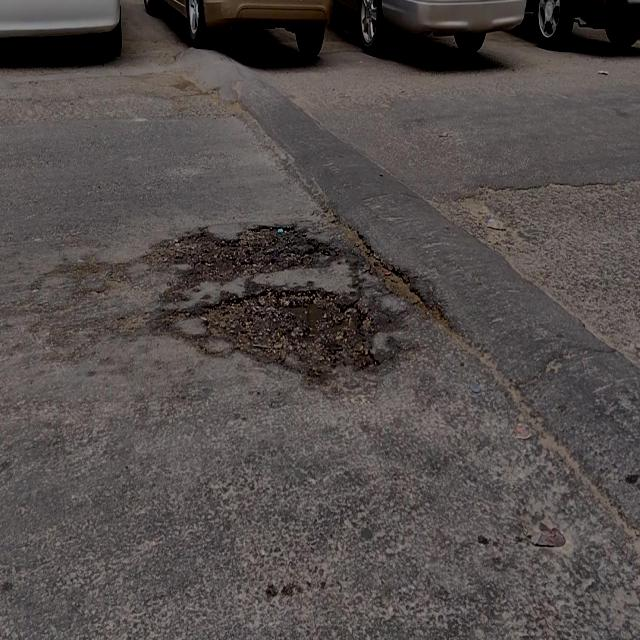Potholes: (204, 287, 379, 379), (162, 222, 321, 286)
